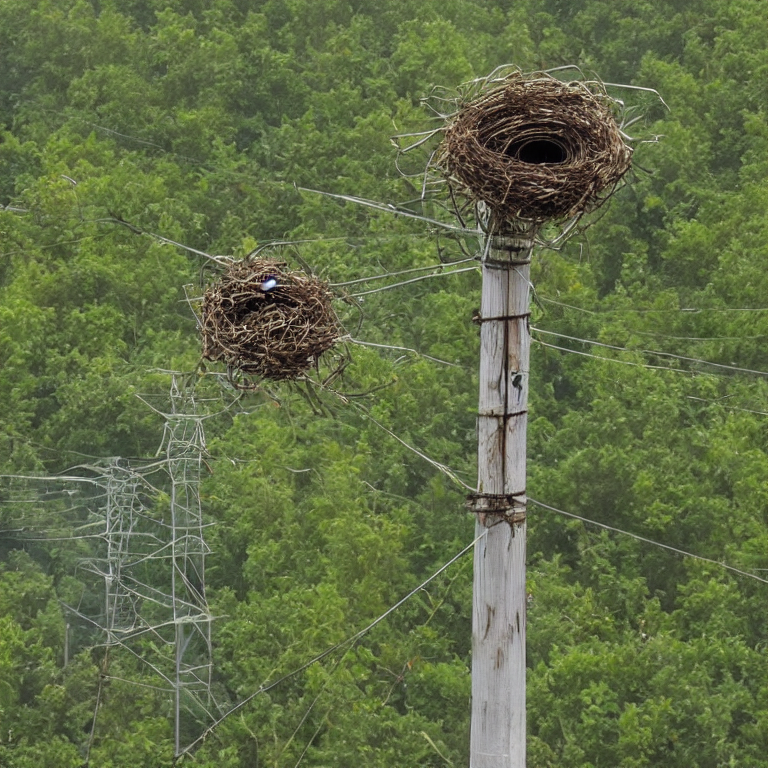nest: (447, 84, 626, 231), (200, 260, 338, 376)
